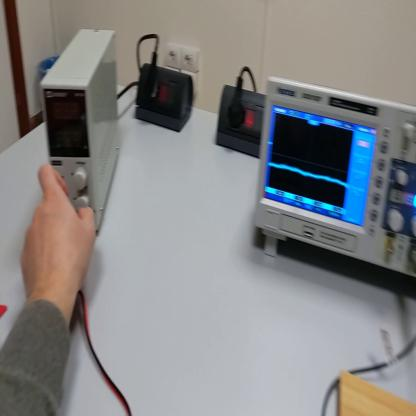hand: (23, 166, 95, 304)
oscilloscope: (254, 74, 416, 290)
power supply: (44, 29, 124, 234)
register: (2, 304, 9, 323)
socket: (133, 60, 195, 133), (213, 84, 267, 158)
working area: (337, 369, 416, 415)
